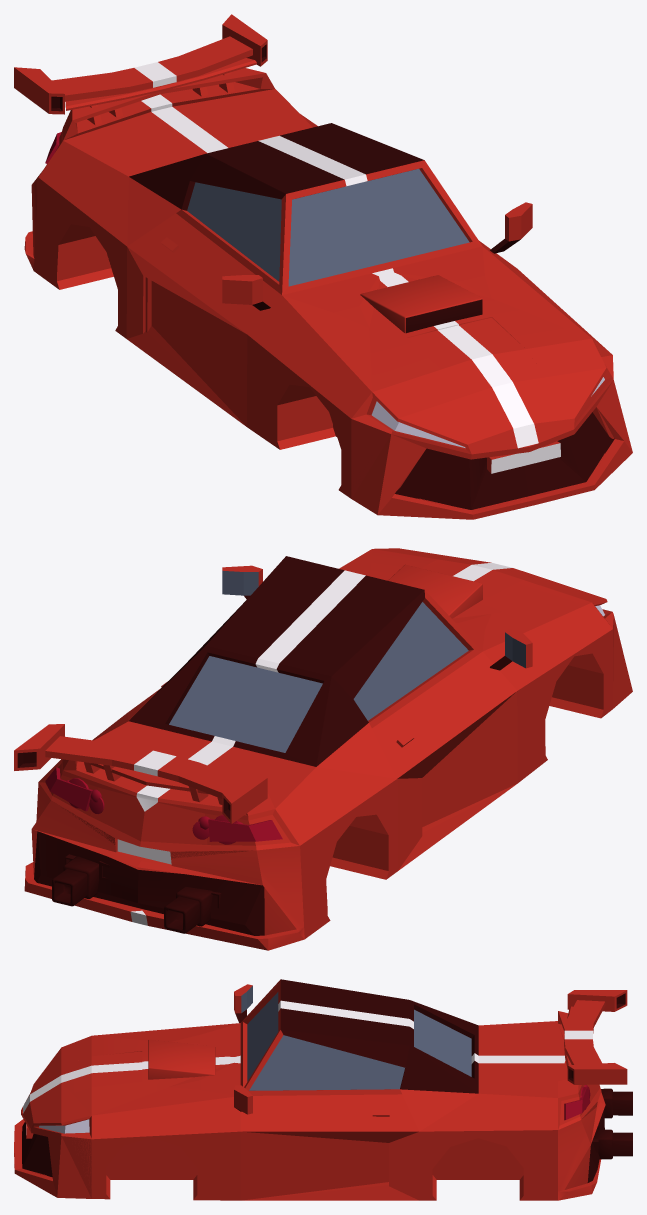
Rendered from newCar2.fbx.
3 views of the same model, one above another, from view 1: azimuth 30°, elevation 25°; view 2: azimuth 150°, elevation 25°; view 3: azimuth 270°, elevation 25° (orthographic). The views are drawn at different scales.
Visible parts, largest first — view 1: carcas.001, Doors1.001, engine2.001, bumper3.001, engine.001, engine3.001, spoiler3.002, Doors3.001, Doors2.001, bumper.001, bumper2.001, spoiler (+1 smaller); view 2: carcas.001, Doors1.001, bumper3.001, spoiler3.002, engine2.001, Doors2.001, engine.001, engine3.001, Lighting2.003, bumper.001, spoiler, Lighting3.003 (+1 smaller); view 3: carcas.001, Doors1.001, bumper3.001, engine2.001, engine.001, engine3.001, spoiler3.002, Doors3.001, Doors2.001, bumper2.001, spoiler, bumper.001 (+1 smaller).
Part boxes in pixels (<box>): carcas.001: <box>33,82,613,498</box>; Doors1.001: <box>126,168,532,426</box>; engine2.001: <box>285,247,605,443</box>; bumper3.001: <box>24,171,632,519</box>; engine.001: <box>282,246,606,444</box>; engine3.001: <box>287,247,601,443</box>; spoiler3.002: <box>14,14,267,117</box>; Doors3.001: <box>145,190,532,424</box>; Doors2.001: <box>147,187,512,425</box>; bumper.001: <box>351,385,613,497</box>; bumper2.001: <box>351,409,611,511</box>; spoiler: <box>63,68,274,140</box>; carcas.001: <box>38,556,613,938</box>; Doors1.001: <box>129,565,532,870</box>; bumper3.001: <box>24,615,632,950</box>; spoiler3.002: <box>14,724,267,823</box>; engine2.001: <box>381,548,604,645</box>; Doors2.001: <box>222,572,517,832</box>; engine.001: <box>339,548,605,651</box>; engine3.001: <box>370,549,591,639</box>; Lighting2.003: <box>45,767,282,841</box>; bumper.001: <box>65,620,613,880</box>; spoiler: <box>63,759,274,815</box>; Lighting3.003: <box>69,778,238,844</box>; carcas.001: <box>23,979,601,1200</box>; Doors1.001: <box>234,984,471,1200</box>; bumper3.001: <box>14,1088,632,1200</box>; engine2.001: <box>30,1023,240,1122</box>; engine.001: <box>30,1023,240,1123</box>; engine3.001: <box>33,1023,240,1122</box>; spoiler3.002: <box>564,990,627,1084</box>; Doors3.001: <box>234,992,388,1198</box>; Doors2.001: <box>234,993,389,1200</box>; bumper2.001: <box>19,1099,599,1197</box>; spoiler: <box>558,1011,578,1097</box>; bumper.001: <box>21,1102,598,1172</box>.
Size of the model in its own units: 2.63 by 1.6 by 6.11.
